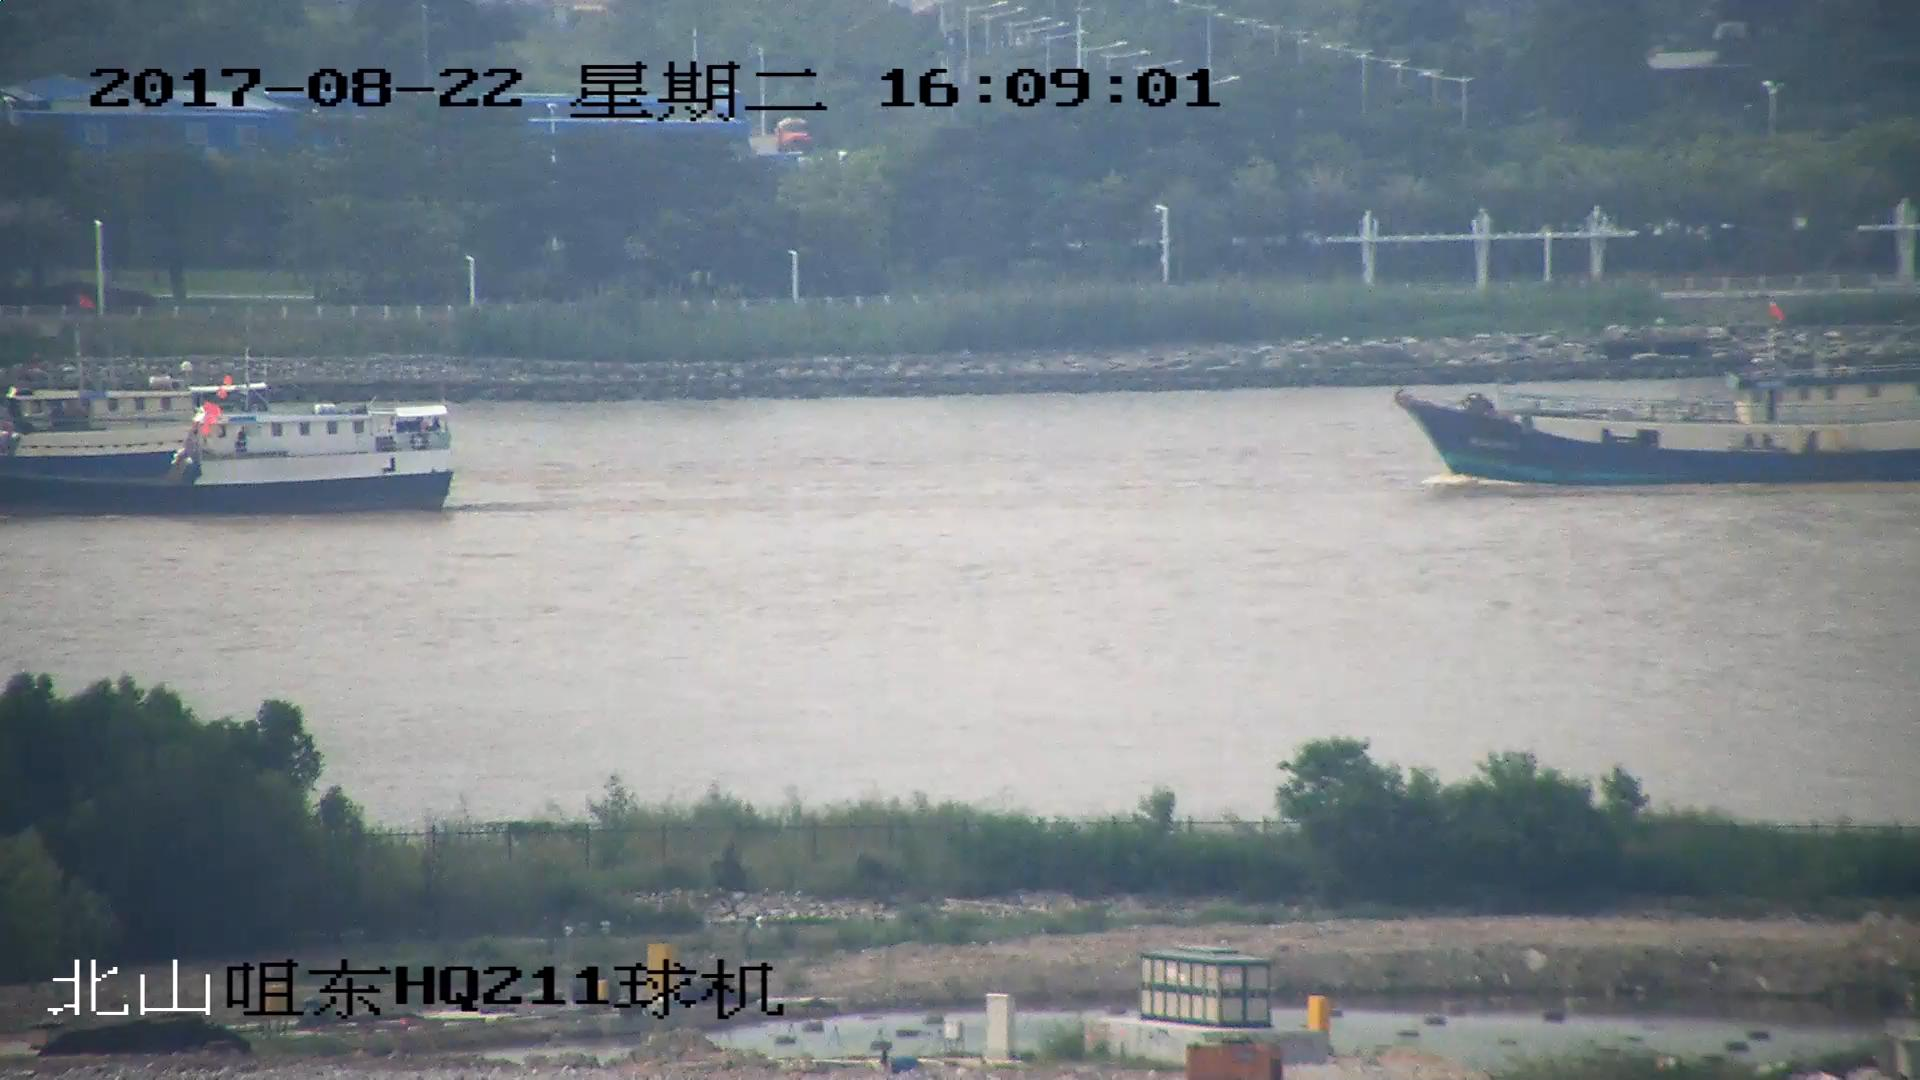fishing boat: (1397, 295, 1920, 486), (1, 382, 459, 513)
